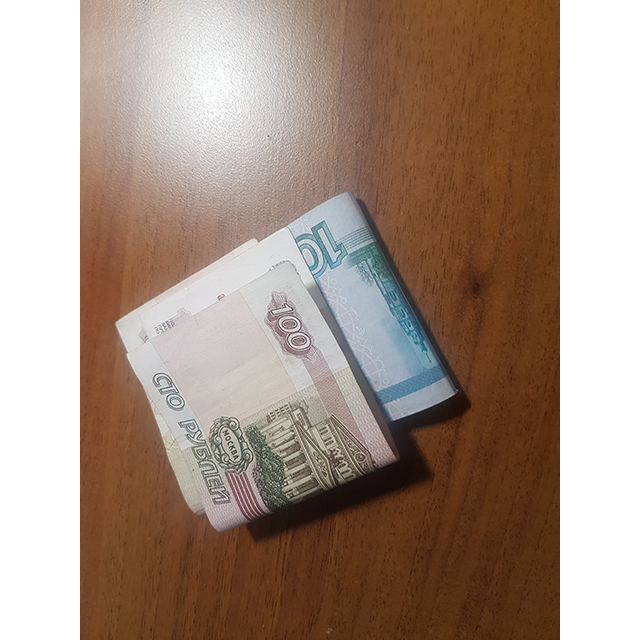banknotes: (113, 191, 460, 531)
